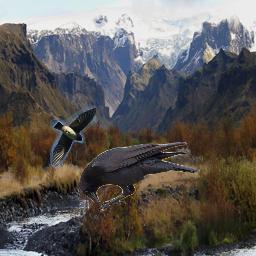Crow: (79, 142, 201, 213)
Swallow: (50, 106, 96, 168)
